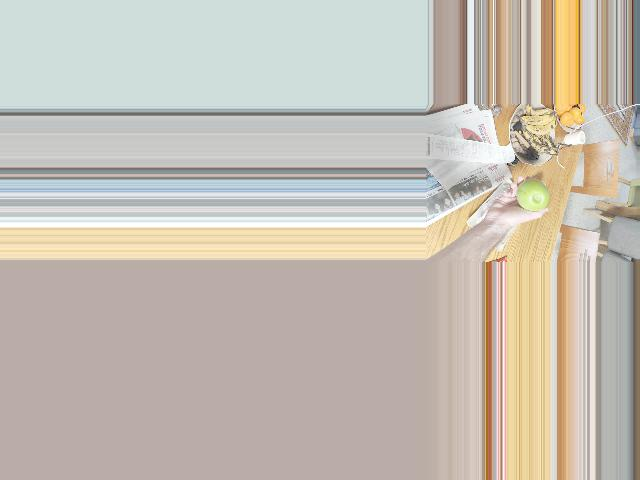apple: (515, 180, 550, 214)
